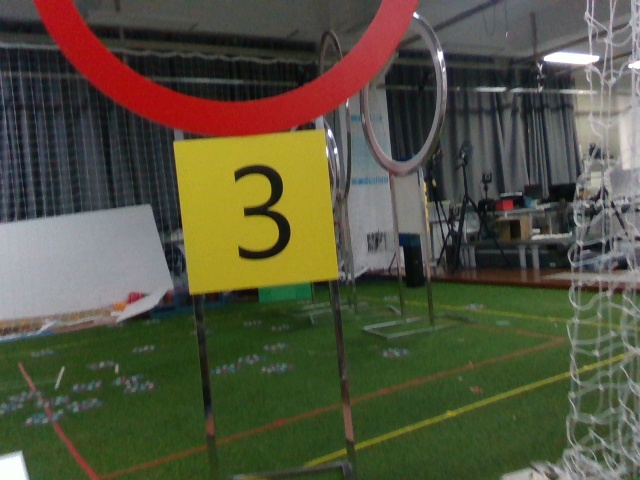target: (186, 144, 329, 275)
